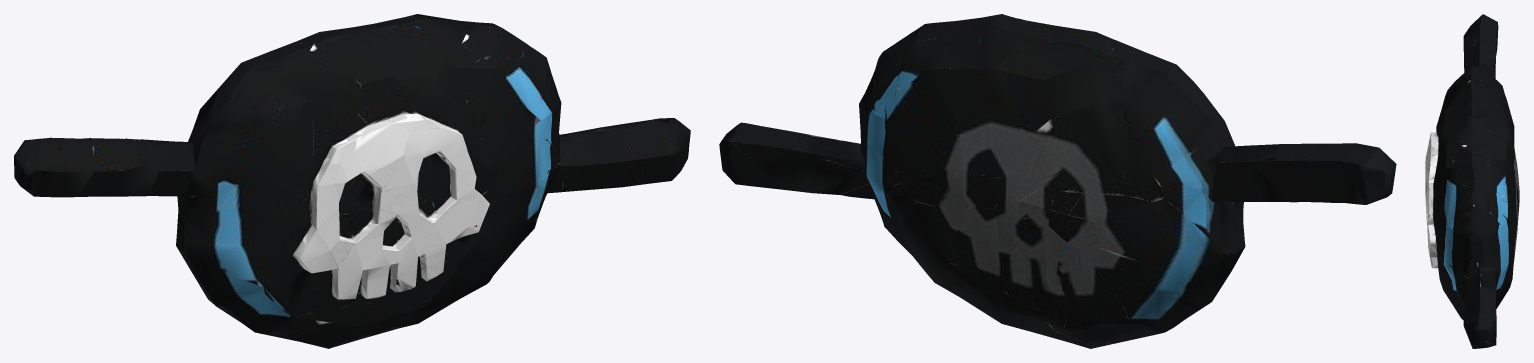
Rendered from cos-patch.glb.
The picture shows the model from 3 angles, left to right: view 1: azimuth 30°, elevation 25°; view 2: azimuth 150°, elevation 25°; view 3: azimuth 270°, elevation 25°; orthographic projection. The views are drawn at different scales.
Visible parts, largest first — view 1: output_unwrapped; view 2: output_unwrapped; view 3: output_unwrapped.
Part boxes in pixels (box(x1,y1,x2,y2)): output_unwrapped: box(14, 14, 690, 348); output_unwrapped: box(719, 14, 1396, 348); output_unwrapped: box(1425, 14, 1519, 348).
Size of the model in its own units: 1.9 by 0.8455 by 0.3467.
Materials: 1 (1 with a texture image).
